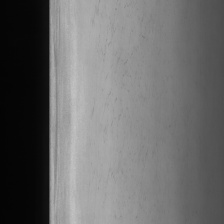silk_spot: (87, 3, 155, 207)
